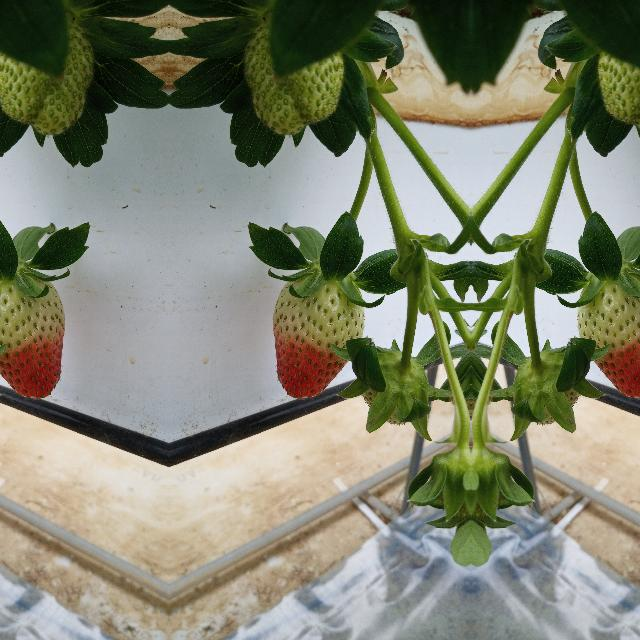Health_25: (232, 7, 346, 144), (0, 6, 103, 143), (595, 6, 640, 143)
Health_50: (270, 271, 364, 399), (0, 271, 65, 399), (577, 271, 640, 399)
